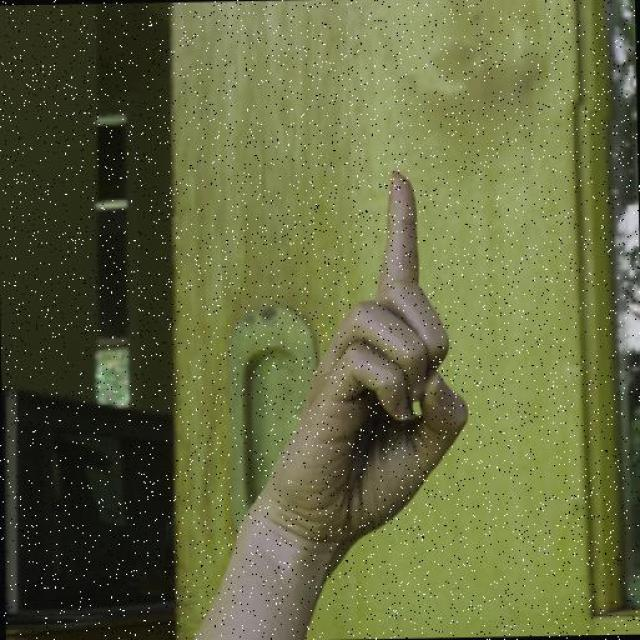D: (226, 145, 499, 590)
